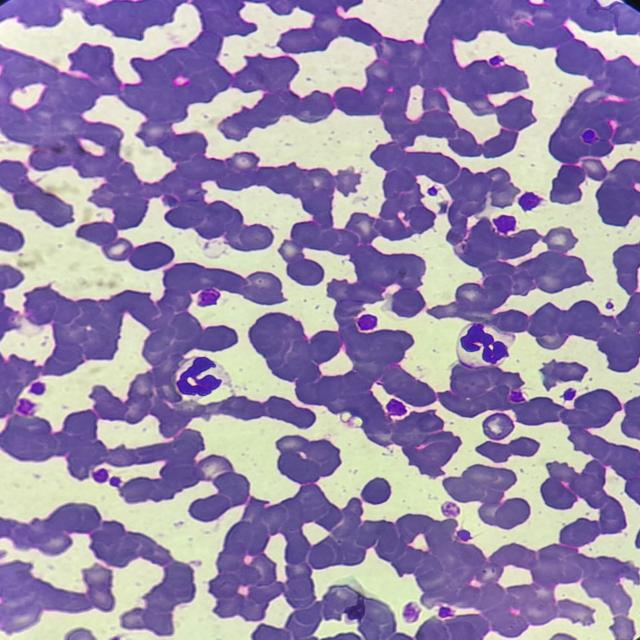Neutrofilo: (449, 316, 516, 370), (172, 359, 229, 403)
